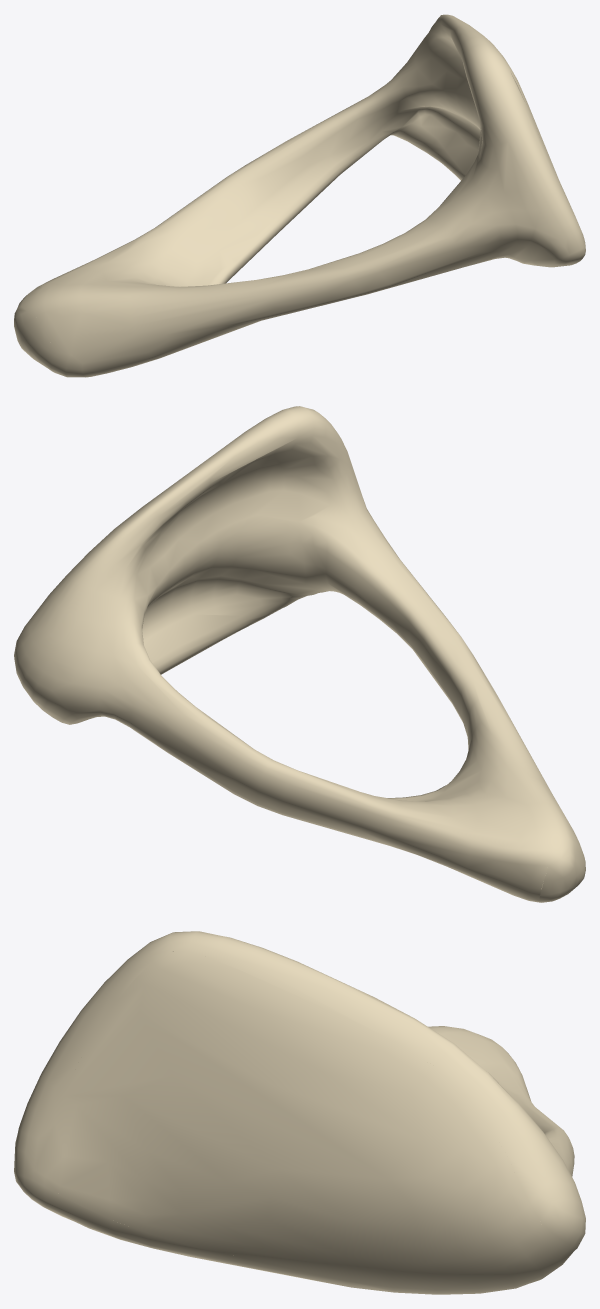
The model's file is esqueleto-stapes-r.glb.
3 views of the same model, one above another, from view 1: azimuth 30°, elevation 25°; view 2: azimuth 150°, elevation 25°; view 3: azimuth 270°, elevation 25° (orthographic). The views are drawn at different scales.
Parts seen in each view (by area): view 1: Stapes.r; view 2: Stapes.r; view 3: Stapes.r.
Part boxes in pixels (left/top/right/bottom): Stapes.r: left=14, top=14, right=585, bottom=377; Stapes.r: left=14, top=406, right=585, bottom=902; Stapes.r: left=14, top=931, right=585, bottom=1294.
Bounding box in the file's own units: 0.00405 × 0.00243 × 0.00305.
